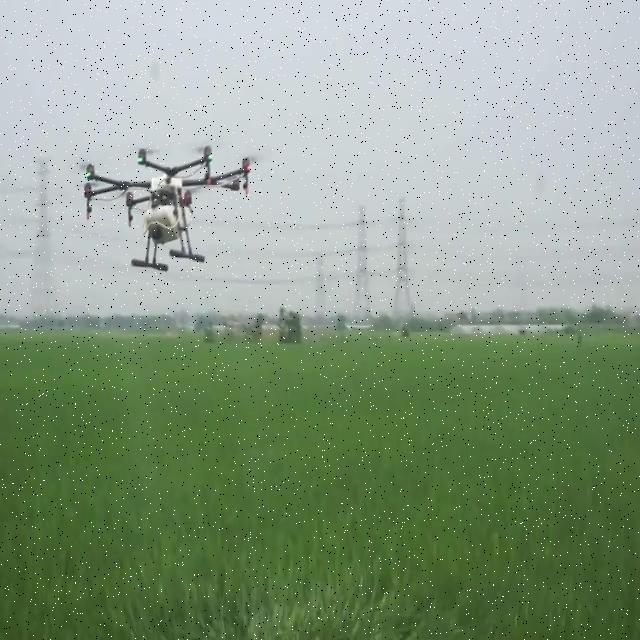UAV: (81, 140, 251, 274)
